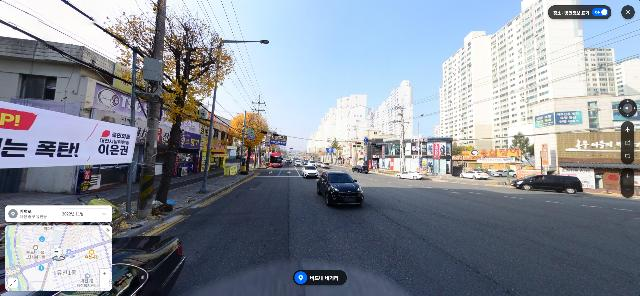ginkgo: (99, 0, 236, 210), (227, 109, 271, 172)
other: (509, 131, 534, 168), (328, 137, 342, 165)
